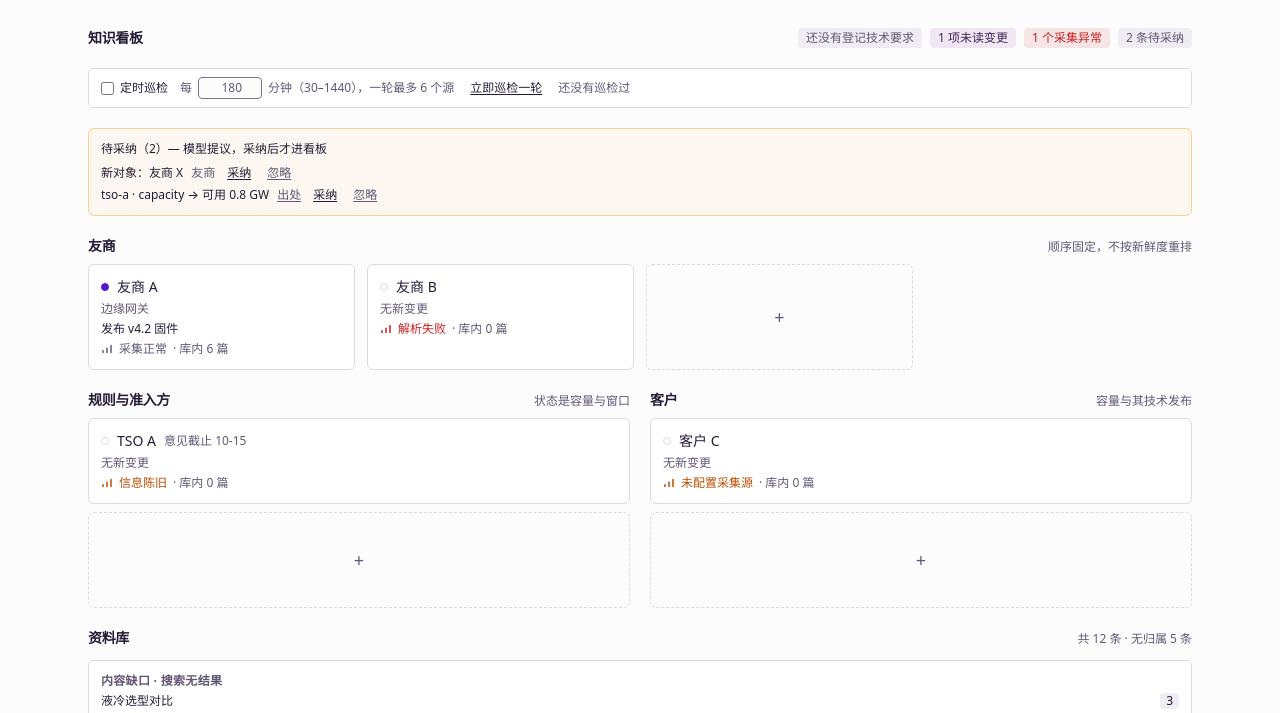
Scenario: KnowledgeDashboard › ⑥ 卡片正面不再有「问 Jarvis 关于这个对象」按钮
The image size is (1280, 713).
Expected: the text "TSO A" is shown, x1=117 y1=431 x2=156 y2=451
Click the button "TSO A 意见截止 10-15 无新变更 信息陈旧 · 库内 0 篇": (136, 440) x1=101 y1=431 x2=617 y2=491
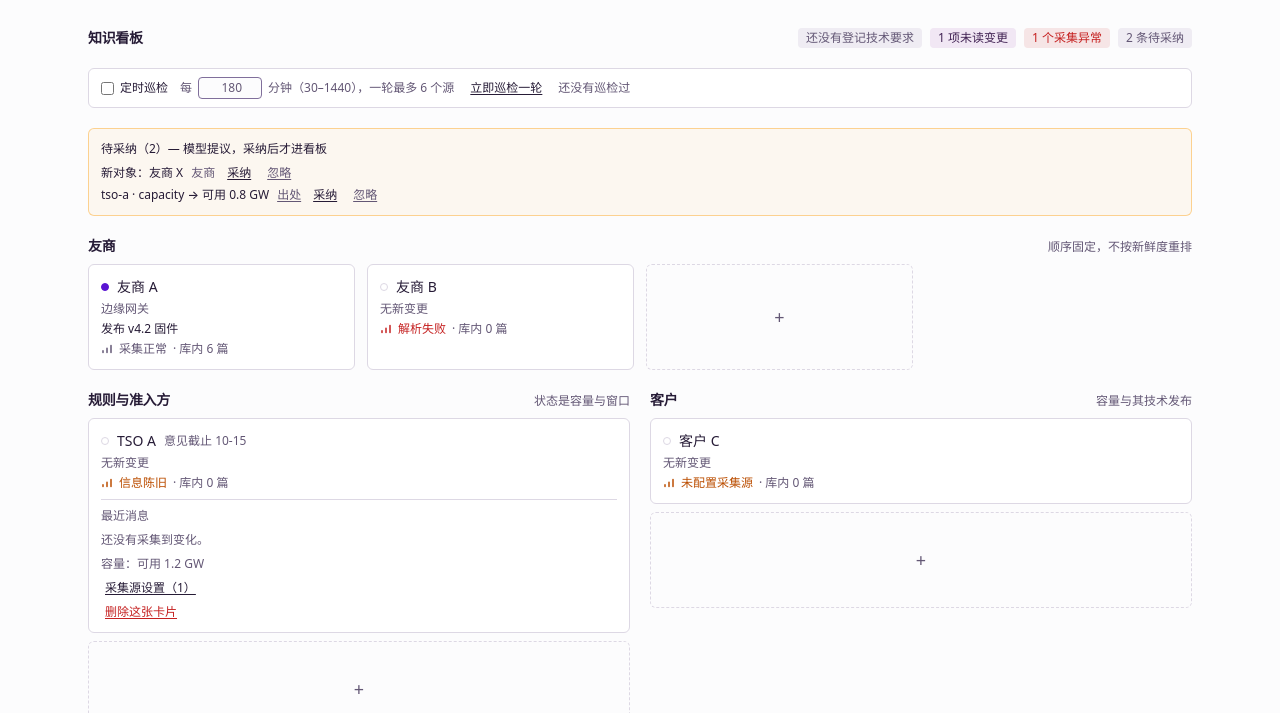
Expected: the text "最近消息" is shown, x1=101 y1=507 x2=149 y2=524
